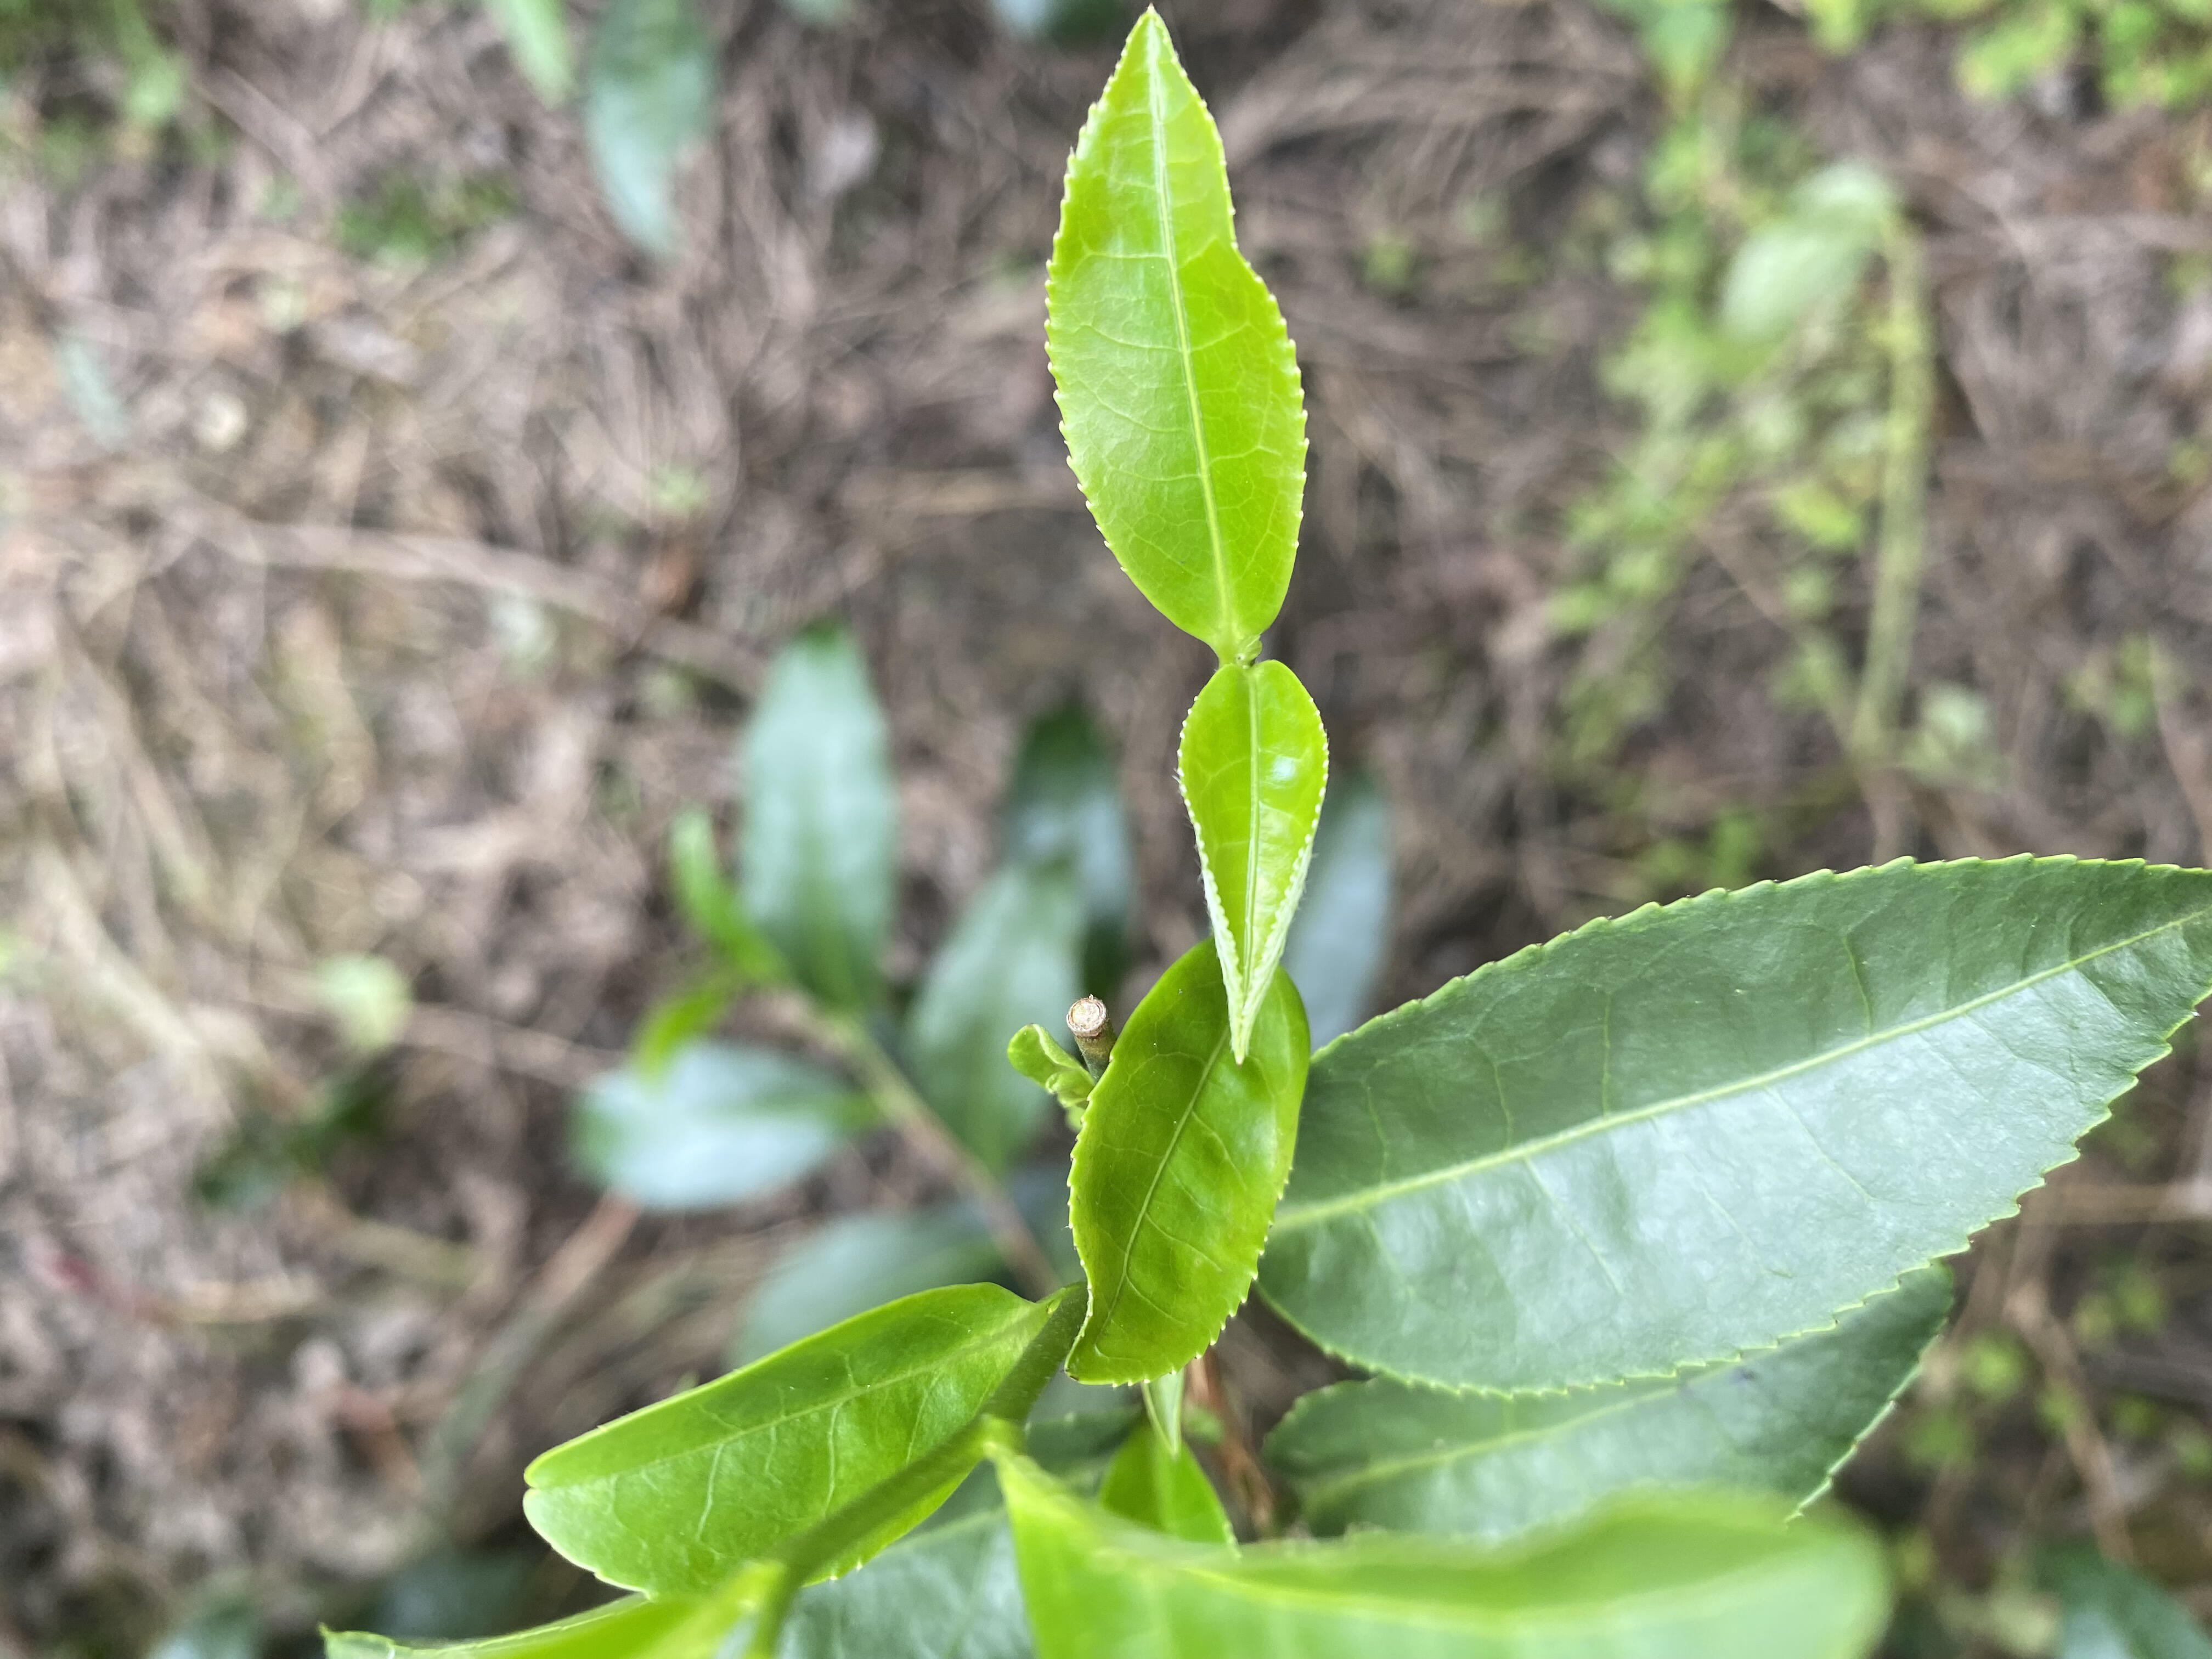healthy: (1261, 847, 2202, 1399), (1042, 3, 1312, 653), (519, 1283, 1055, 1605), (1062, 943, 1312, 1391), (1174, 659, 1331, 1065)
